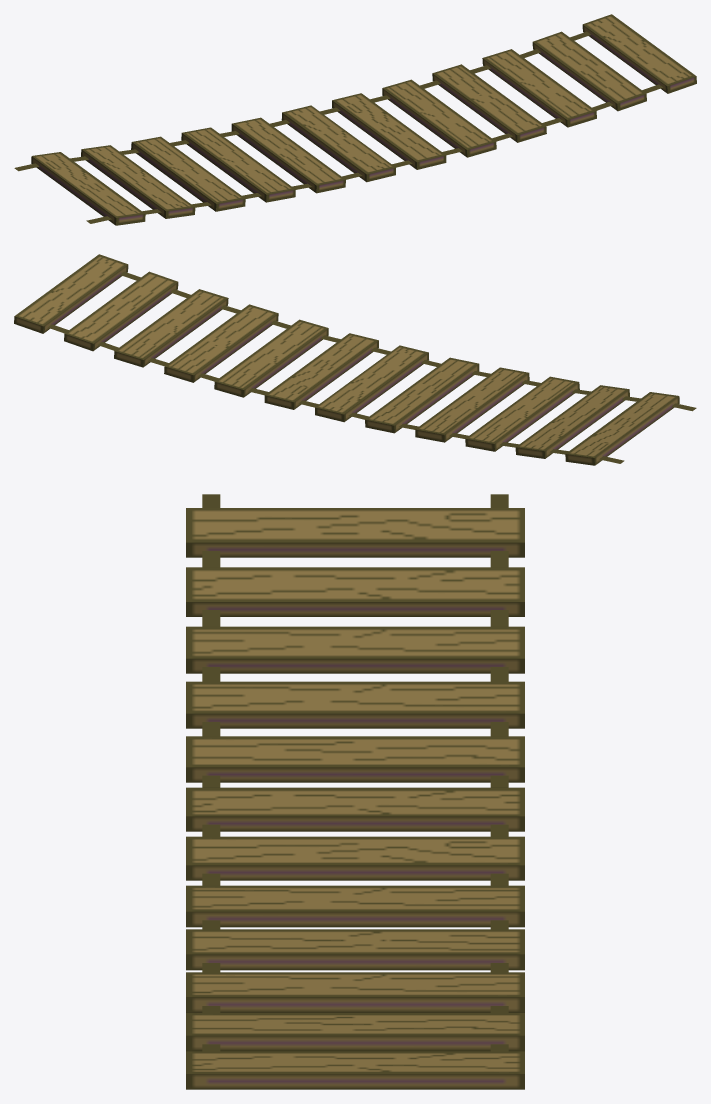
File: tablita.fbx
3 renders of one model, top to bottom at view 1: azimuth 30°, elevation 25°; view 2: azimuth 150°, elevation 25°; view 3: azimuth 270°, elevation 25°, orthographic. The views are drawn at different scales.
Parts seen in each view (by area): view 1: Tablas.011; view 2: Tablas.011; view 3: Tablas.011.
Part boxes in pixels (bbox=[...]): Tablas.011: bbox=[14, 14, 696, 225]; Tablas.011: bbox=[14, 254, 696, 465]; Tablas.011: bbox=[186, 494, 524, 1089].
Bounding box in the file's own units: 410 × 16.63 × 100.
